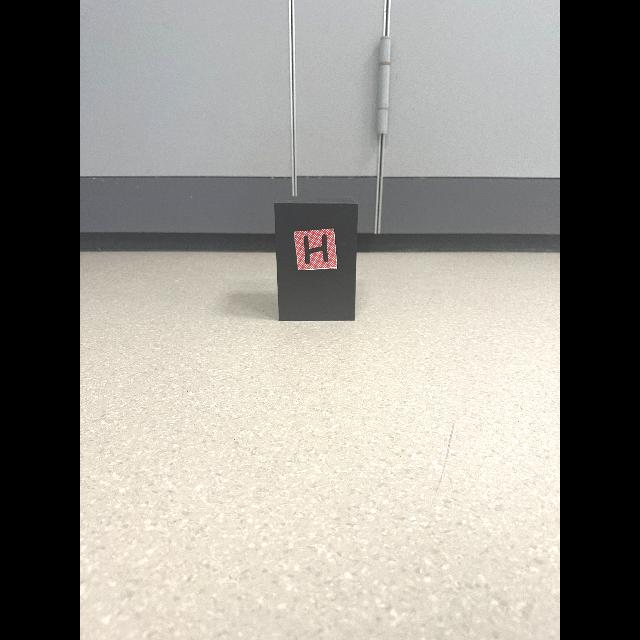H: (304, 234, 328, 264)
